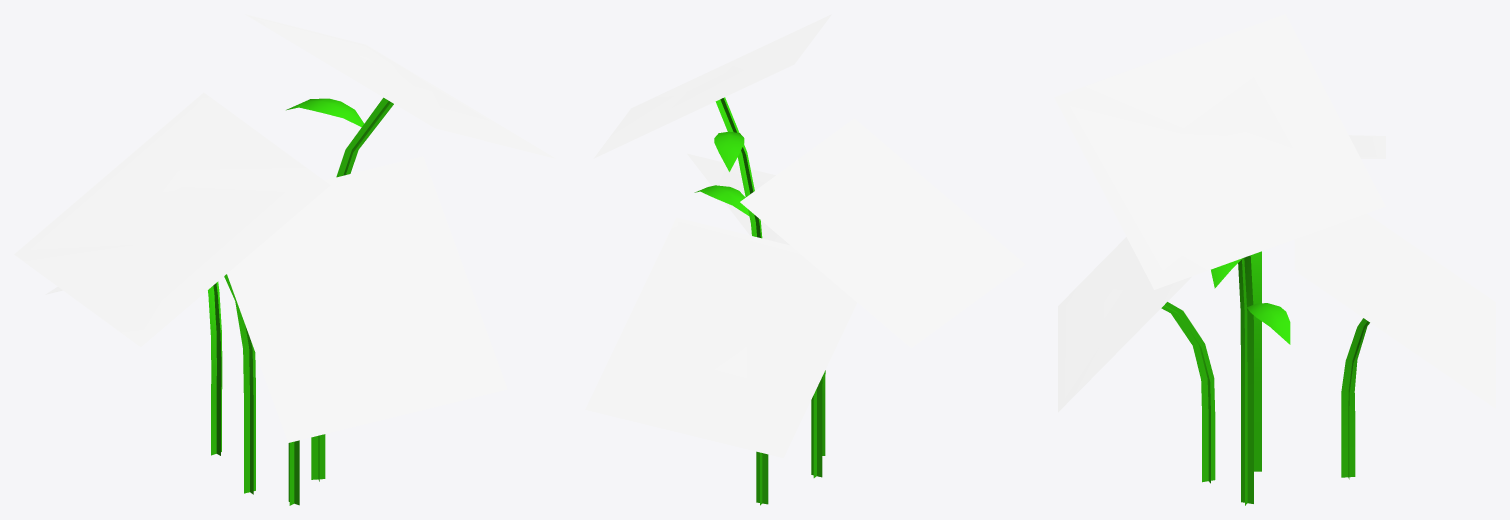
Rendered from flower_group_1.glb.
3 views of the same model, side by side, from view 1: azimuth 30°, elevation 25°; view 2: azimuth 150°, elevation 25°; view 3: azimuth 270°, elevation 25° (orthographic). The views are drawn at different scales.
Visible parts, largest first — view 1: flower_group_1; view 2: flower_group_1; view 3: flower_group_1.
Part boxes in pixels (x1,y1,x2,y2): flower_group_1: (14,14,555,505); flower_group_1: (585,14,1025,505); flower_group_1: (1054,14,1495,505).
Size of the model in its own units: 0.7197 by 0.7496 by 0.6492.
